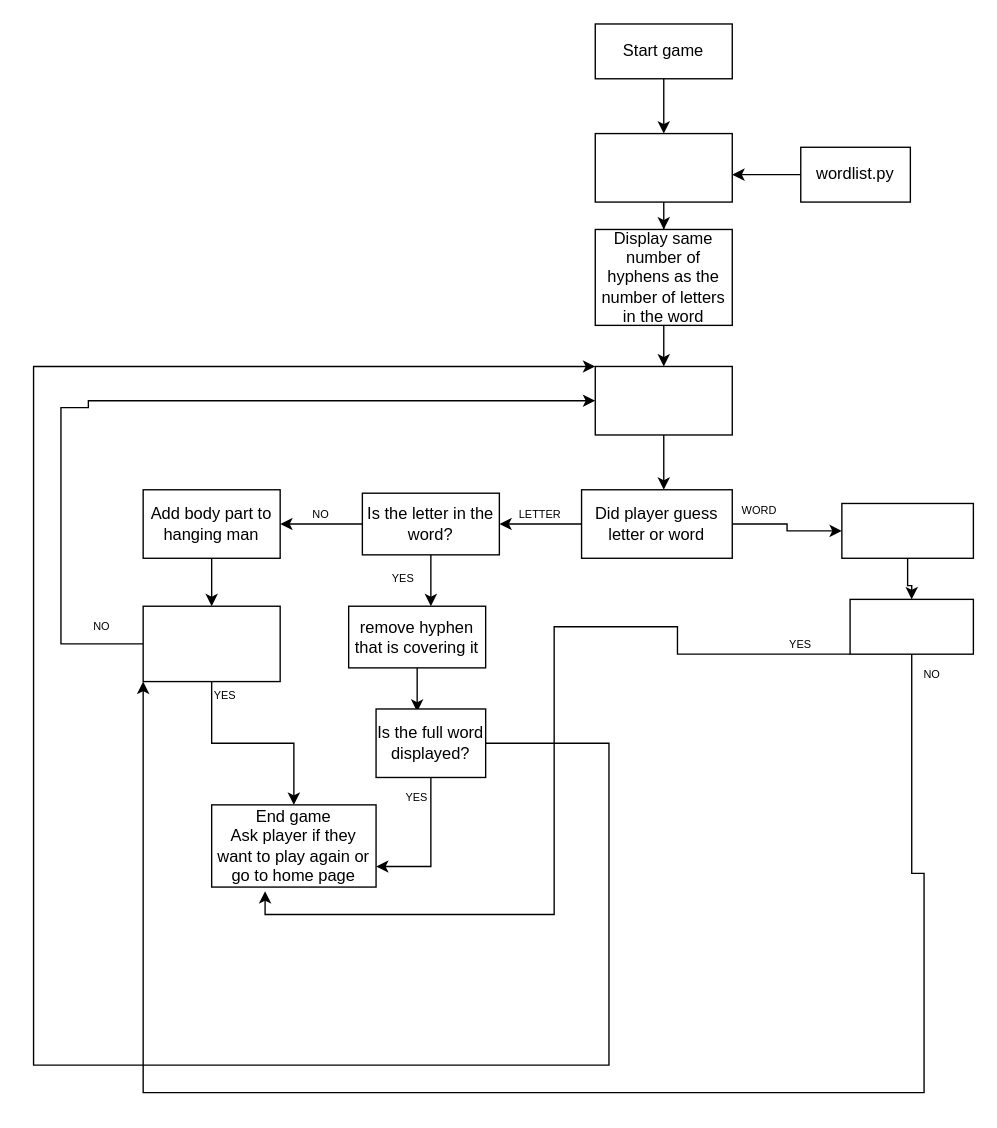
The diagram is 997 pixels wide and 1128 high, and some of its shapes have lost their labels. The shapes that lost their labels are listed below. From the top down, each one's centre as x and y in pixels, then its label:
pixel 663 167: Random word
pixel 663 400: Play game Guess the word
pixel 906 530: Player guess word
pixel 211 643: Does the hanging man have all body parts
pixel 911 626: Is the guess the word
